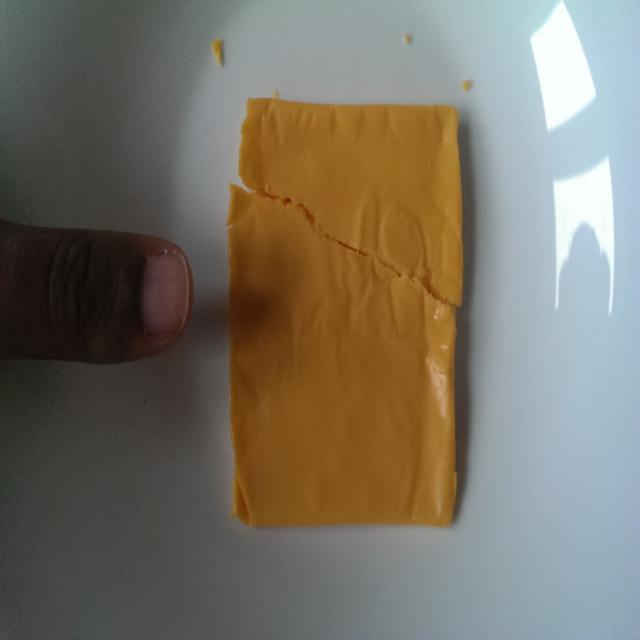Cheese: (223, 91, 474, 536)
Finger: (27, 210, 201, 378)
